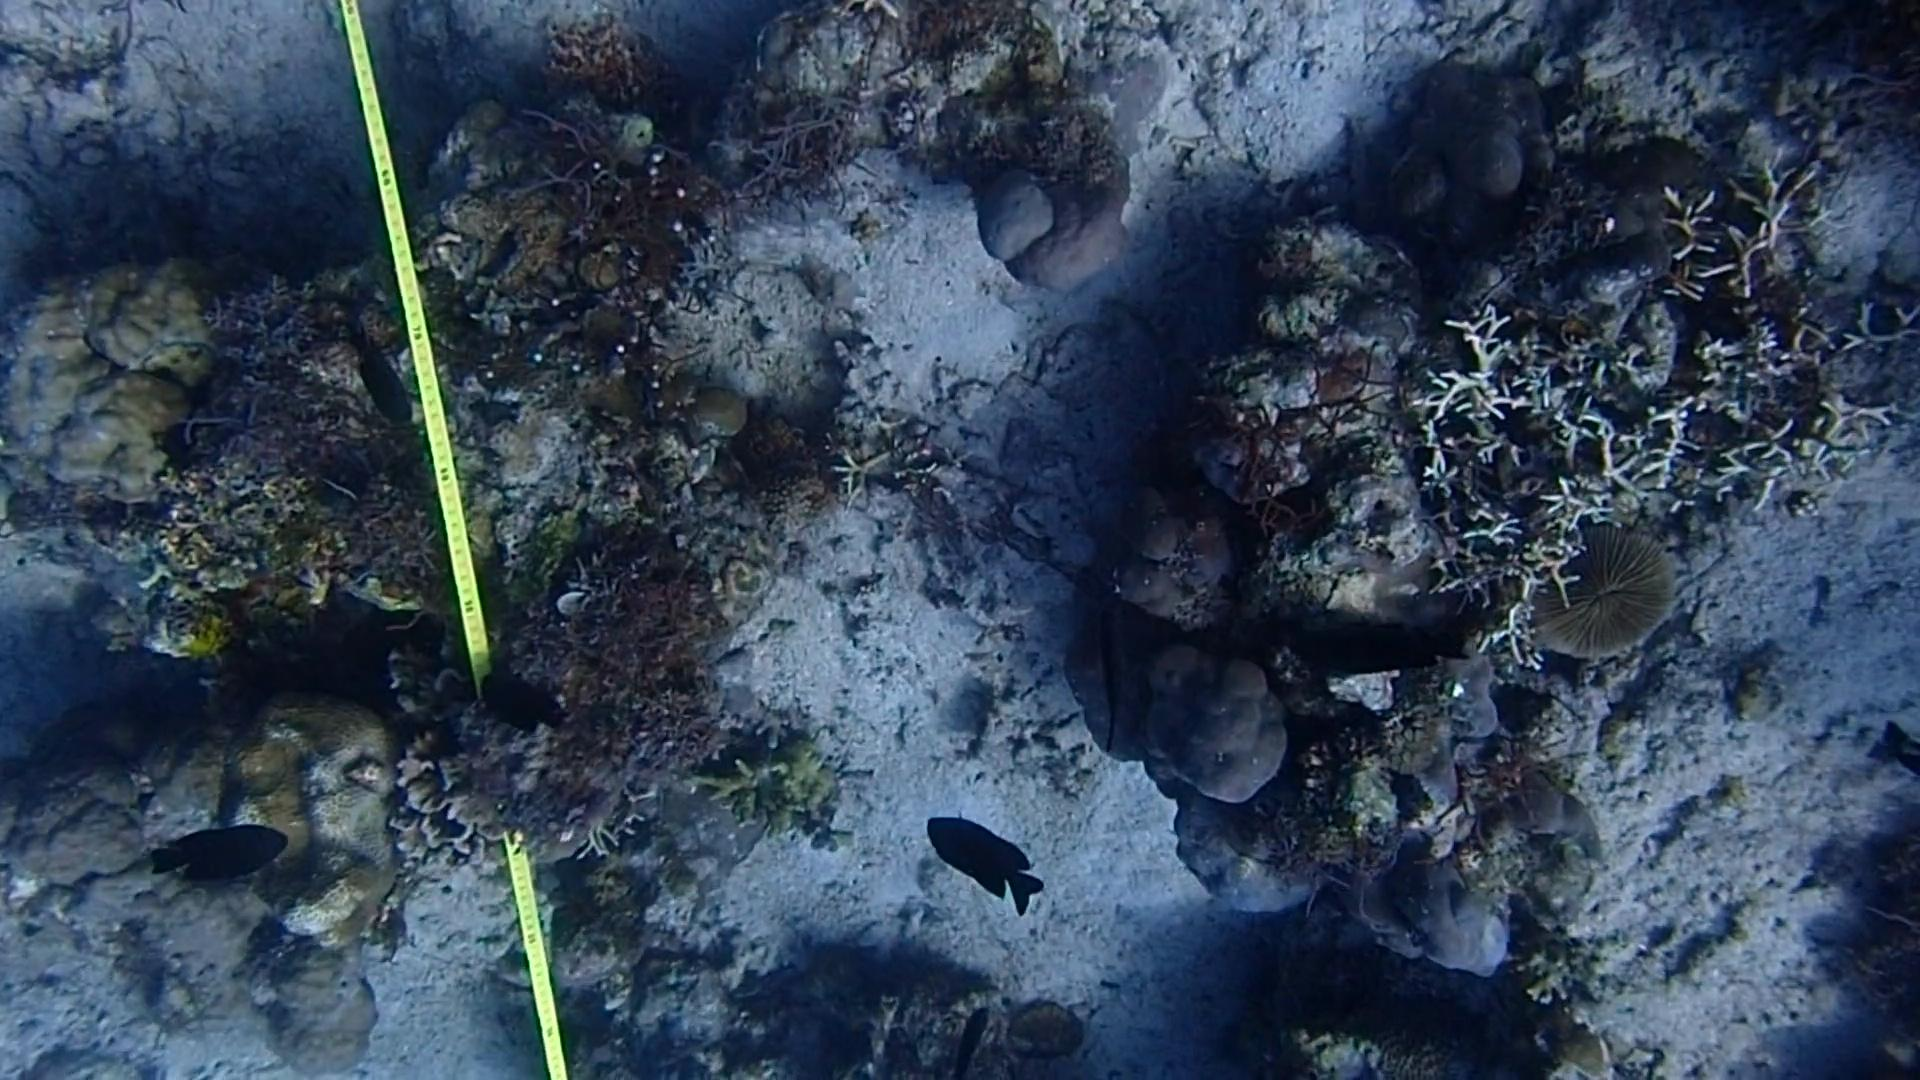Dark Fish: (913, 806, 1062, 938), (1062, 572, 1155, 762), (1266, 603, 1457, 690), (145, 802, 291, 899), (472, 657, 587, 745), (328, 323, 422, 430), (924, 1000, 1010, 1077)
